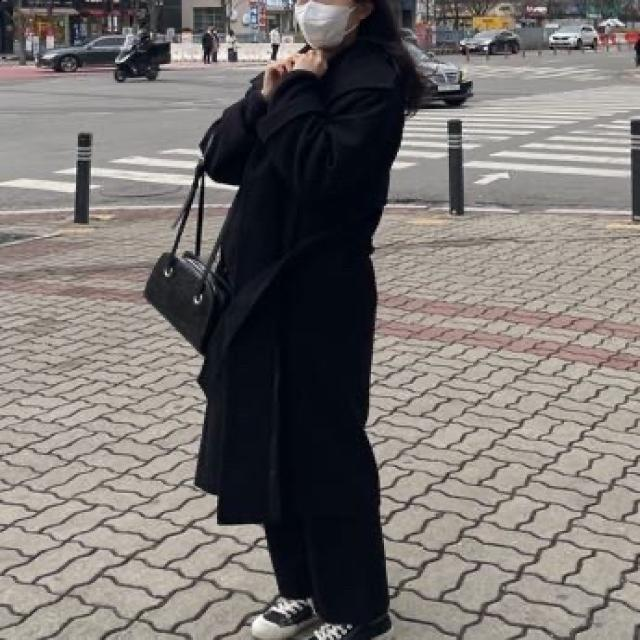coat: (192, 38, 402, 530)
slacks: (266, 520, 392, 620)
